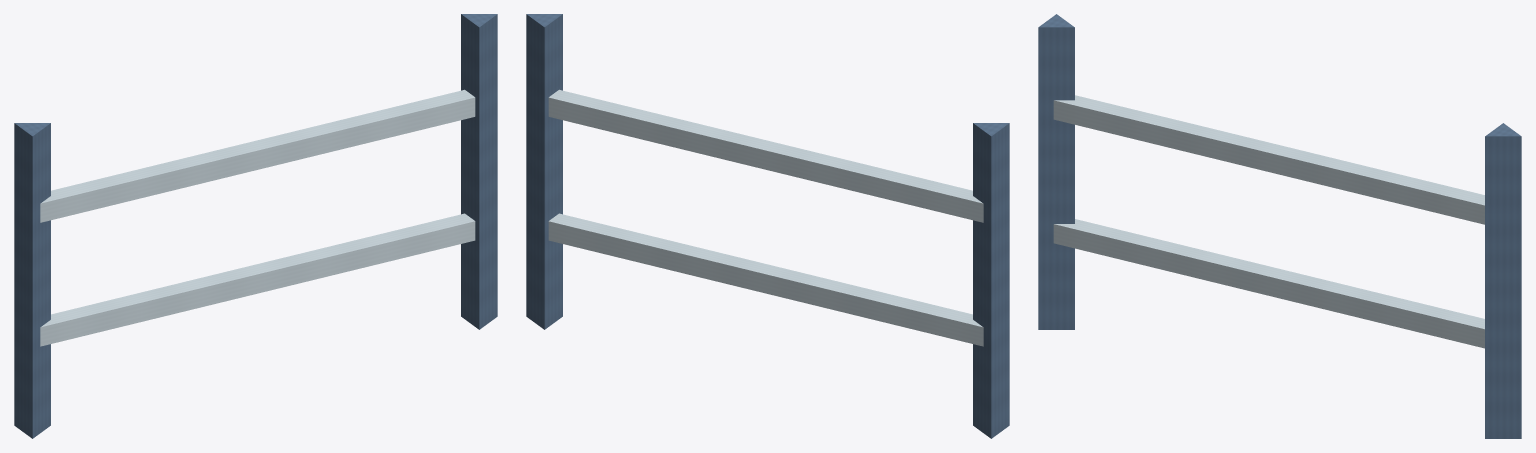
The model's file is atlas100-polar-util04.lod2.glb.
3 renders of one model, left to right at view 1: azimuth 30°, elevation 25°; view 2: azimuth 150°, elevation 25°; view 3: azimuth 330°, elevation 25°, orthographic.
Visible parts, largest first — view 1: atlas100-polar-util04:part-004, atlas100-polar-util04:part-005, atlas100-polar-util04:part-000, atlas100-polar-util04:part-002; view 2: atlas100-polar-util04:part-004, atlas100-polar-util04:part-005, atlas100-polar-util04:part-000, atlas100-polar-util04:part-002; view 3: atlas100-polar-util04:part-005, atlas100-polar-util04:part-004, atlas100-polar-util04:part-002, atlas100-polar-util04:part-000.
Part boxes in pixels (x1=…): atlas100-polar-util04:part-004: x1=40, y1=213, x2=475, y2=346; atlas100-polar-util04:part-005: x1=40, y1=89, x2=475, y2=222; atlas100-polar-util04:part-000: x1=14, y1=123, x2=50, y2=438; atlas100-polar-util04:part-002: x1=461, y1=14, x2=497, y2=329; atlas100-polar-util04:part-004: x1=548, y1=213, x2=983, y2=346; atlas100-polar-util04:part-005: x1=548, y1=89, x2=983, y2=222; atlas100-polar-util04:part-000: x1=973, y1=123, x2=1009, y2=438; atlas100-polar-util04:part-002: x1=526, y1=14, x2=562, y2=329; atlas100-polar-util04:part-005: x1=1053, y1=95, x2=1484, y2=224; atlas100-polar-util04:part-004: x1=1053, y1=219, x2=1484, y2=348; atlas100-polar-util04:part-002: x1=1485, y1=123, x2=1521, y2=438; atlas100-polar-util04:part-000: x1=1038, y1=14, x2=1074, y2=329.
Size of the model in its own units: 1.89 by 1.15 by 0.1268.
2 materials, 2 textured.
